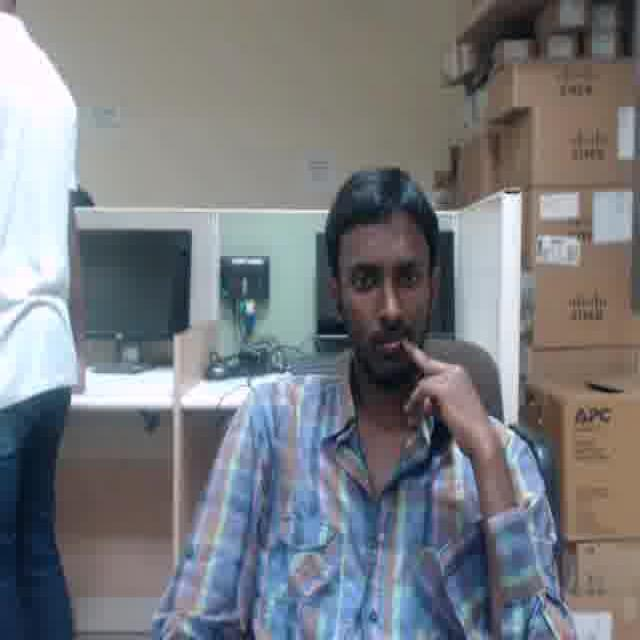Engaged: (340, 222, 426, 370)
